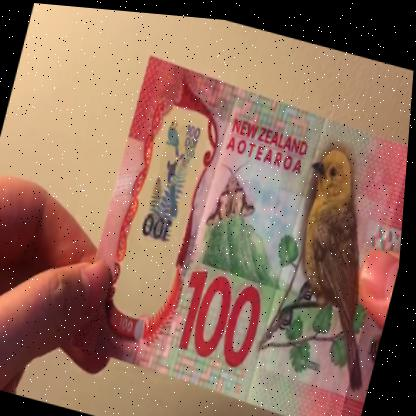100B: (125, 102, 212, 296)
